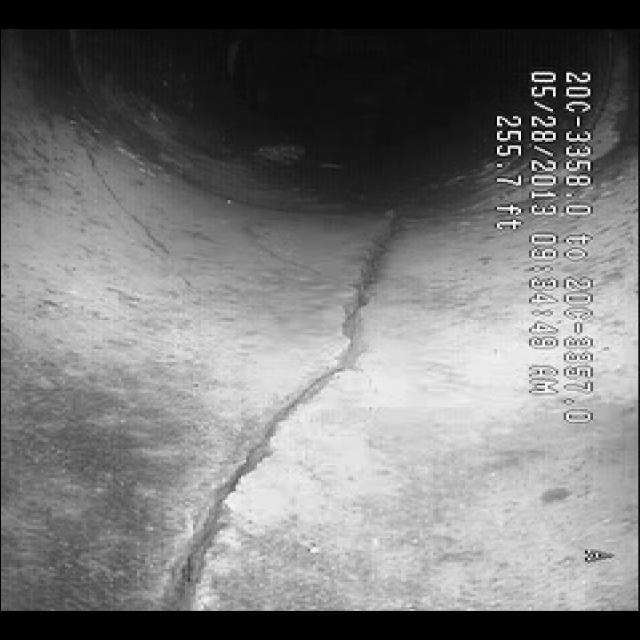Fracture: (208, 222, 438, 540)
